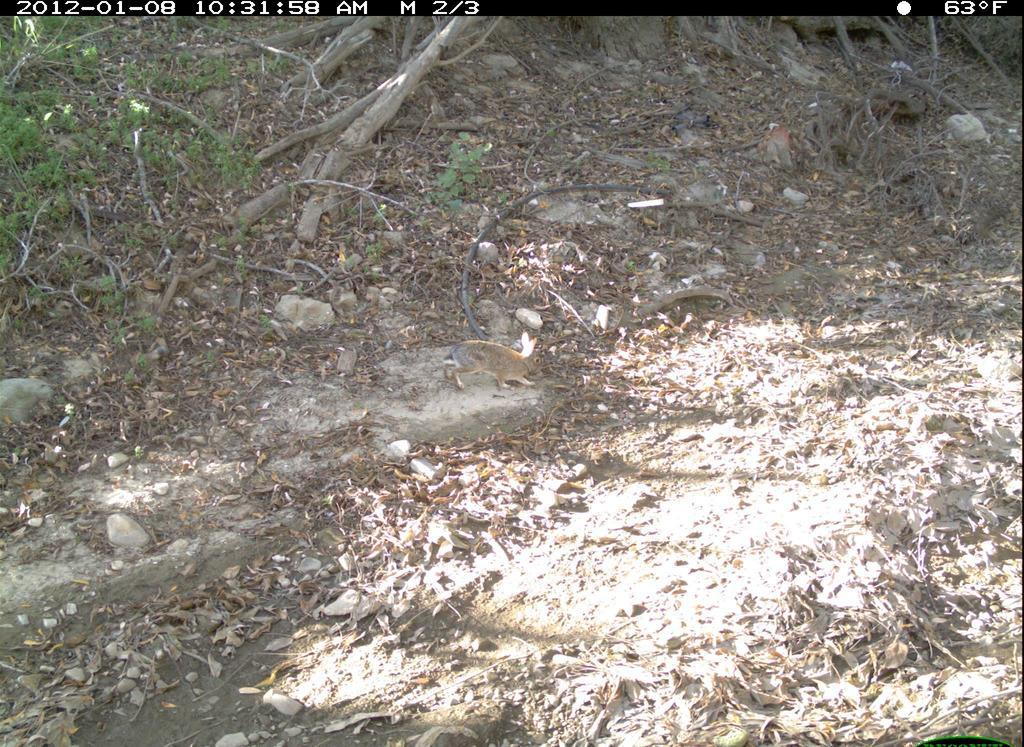rabbit: (441, 329, 550, 393)
